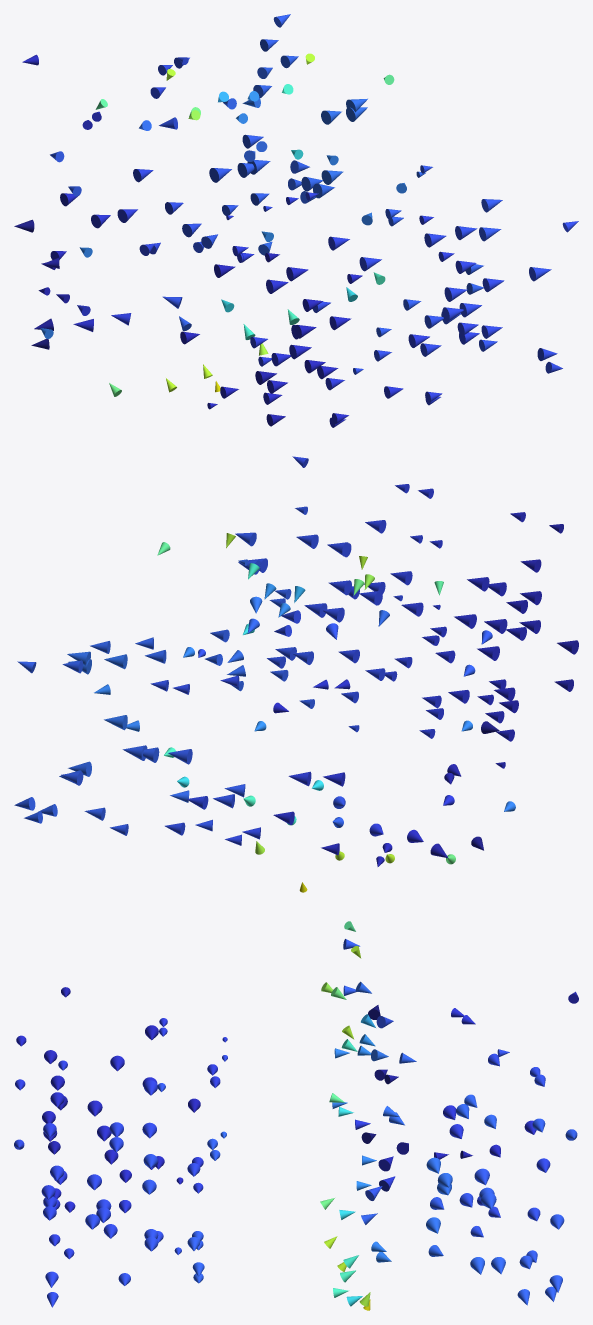
The model's file is LineasCorrienteN2-H2O_mh2-2.70_V-1.1.glb.
The picture shows the model from 3 angles, top to bottom: view 1: azimuth 30°, elevation 25°; view 2: azimuth 150°, elevation 25°; view 3: azimuth 270°, elevation 25°; orthographic projection. The views are drawn at different scales.
Size of the model in its own units: 0.000973 by 0.000799 by 0.00121.
2 materials, 2 textured.
